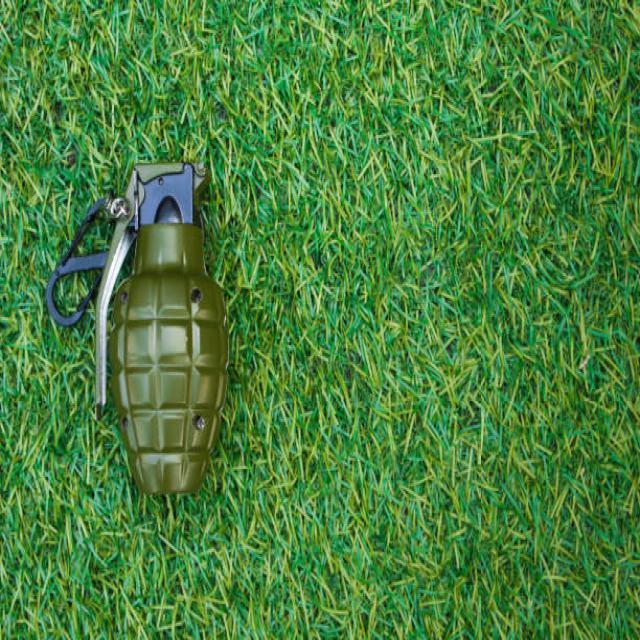grenade: (92, 155, 237, 502)
